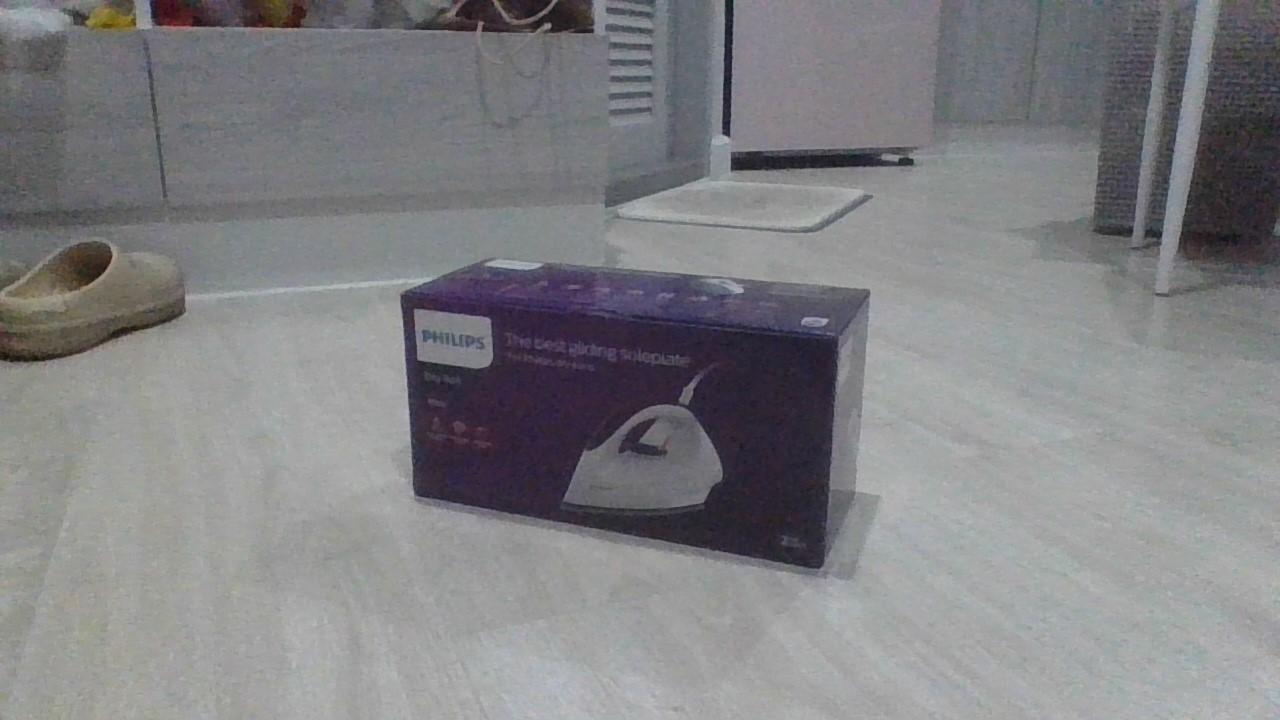IRON: (395, 251, 874, 576)
